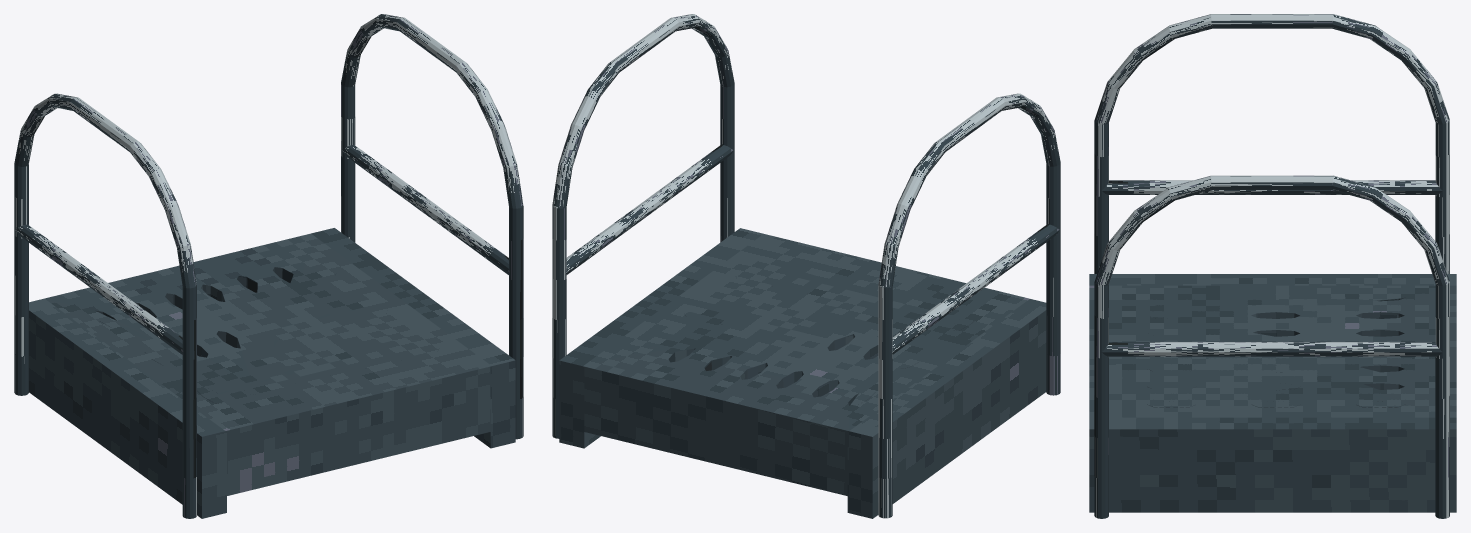
Rendered from catPlat1x1.fbx.
3 views of the same model, side by side, from view 1: azimuth 30°, elevation 25°; view 2: azimuth 150°, elevation 25°; view 3: azimuth 270°, elevation 25° (orthographic).
Visible parts, largest first — view 1: CatPlat1, catPlat1Rail.002, catPlat1Rail.001; view 2: CatPlat1, catPlat1Rail.002, catPlat1Rail.001; view 3: CatPlat1, catPlat1Rail.001, catPlat1Rail.002.
Part boxes in pixels (<box>): CatPlat1: <box>29,228,515,518</box>; catPlat1Rail.002: <box>14,93,196,518</box>; catPlat1Rail.001: <box>341,14,523,439</box>; CatPlat1: <box>559,228,1046,518</box>; catPlat1Rail.002: <box>878,93,1060,518</box>; catPlat1Rail.001: <box>552,14,734,438</box>; CatPlat1: <box>1089,274,1456,512</box>; catPlat1Rail.001: <box>1094,175,1449,518</box>; catPlat1Rail.002: <box>1094,14,1449,273</box>.
Size of the model in its own units: 216 by 200 by 204.
Materials: 2 (2 with a texture image).
